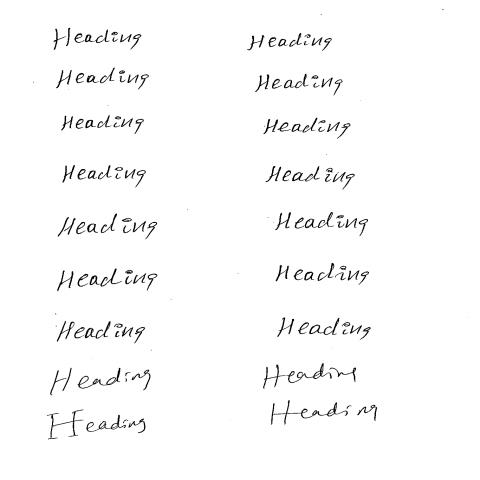Heading: (47, 409, 147, 441), (50, 367, 152, 397), (58, 213, 159, 242), (271, 401, 379, 427), (57, 269, 159, 293), (263, 364, 358, 389), (275, 213, 369, 238), (265, 165, 355, 191), (276, 264, 370, 288), (276, 317, 372, 340), (56, 320, 146, 343), (54, 28, 143, 51), (56, 68, 149, 90), (264, 118, 352, 139), (255, 74, 344, 94), (63, 164, 147, 185), (248, 33, 333, 52), (61, 114, 145, 132)
